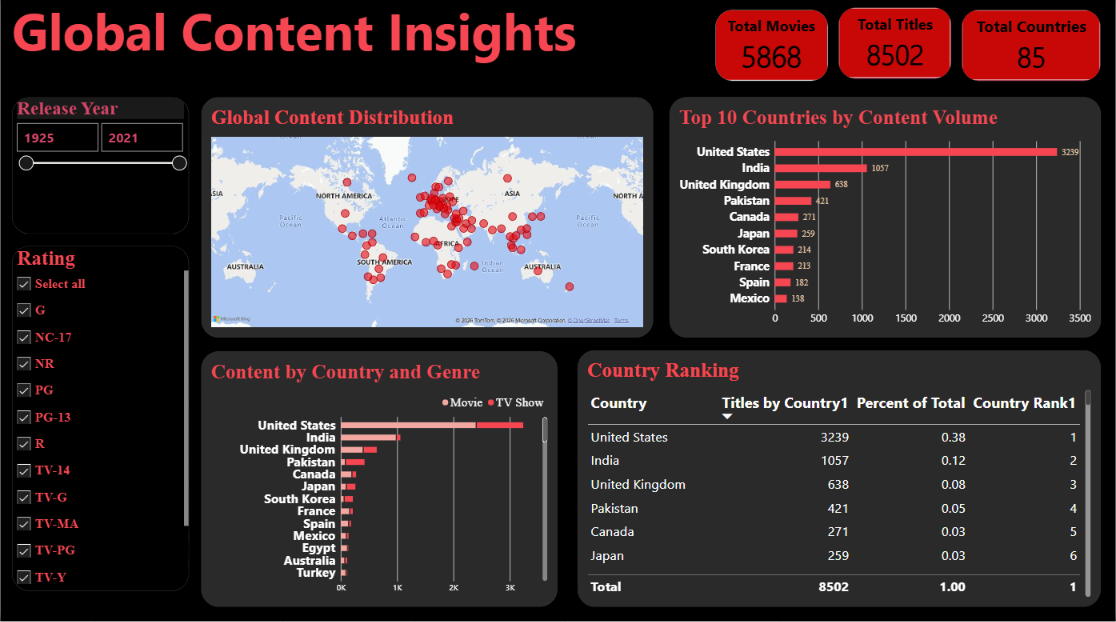

What the dashboard file says about the page in this screenshot:
{"tool":"powerbi","page":{"name":"Global Content Insights","canvas":[1920,1080],"ordinal":1},"visuals":[{"type":"map","title":"Global Content Distribution ","fields":{"Category":["Dataset.country"]},"box":[345.5,175.6,778.7,414.3],"z":0},{"type":"clusteredBarChart","title":"Top 10 Countries by Content Volume","fields":{"Category":["Country1.Country"],"Y":["Country1.Titles by Country1"]},"box":[1153,175.9,743.8,414.3],"z":1000},{"type":"tableEx","title":"Country Ranking","fields":{"Values":["Country1.country","Country1.Titles by Country1","Country1.Percent of Total","Country1.Country Rank1"]},"box":[994,611.8,901.3,442],"z":2000},{"type":"barChart","title":"Content by Country and Genre","fields":{"Category":["Country1.country"],"Series":["Dataset.type"],"Y":["CountNonNull(Country1.Country)"]},"box":[345.5,613.7,613.7,440],"z":3000},{"type":"slicer","fields":{"Values":["Dataset.release_year"]},"box":[19.3,175.6,304.9,235.5],"z":4000},{"type":"slicer","fields":{"Values":["Dataset.rating"]},"box":[19.3,432.3,304.9,594.4],"z":5000},{"type":"textbox","box":[19.1,0,996.1,127.2],"z":6000},{"type":"cardVisual","fields":{"Data":["Dataset.Total Movies"]},"box":[1231.1,24.6,194.6,122.9],"z":7000},{"type":"cardVisual","fields":{"Data":["Dataset.Total Titles"]},"box":[1444.2,20.5,194.6,122.9],"z":8000},{"type":"cardVisual","fields":{"Data":["Dataset.Total Countries"]},"box":[1655.2,24.6,239.5,122.9],"z":9000}]}

Visuals, with their boxes in screenshot pixels (x1, y1, x2, y2), scaled from the page's 1920x1080 canvas onto the 1116x622 screenshot:
"Global Content Distribution " map: select_region(201, 101, 653, 340)
"Top 10 Countries by Content Volume" clusteredBarChart: select_region(670, 101, 1103, 340)
"Country Ranking" tableEx: select_region(578, 352, 1102, 607)
"Content by Country and Genre" barChart: select_region(201, 353, 558, 607)
slicer - Dataset.release_year: select_region(11, 101, 188, 237)
slicer - Dataset.rating: select_region(11, 249, 188, 591)
textbox: select_region(11, 0, 590, 73)
cardVisual - Dataset.Total Movies: select_region(716, 14, 829, 85)
cardVisual - Dataset.Total Titles: select_region(839, 12, 953, 83)
cardVisual - Dataset.Total Countries: select_region(962, 14, 1101, 85)
